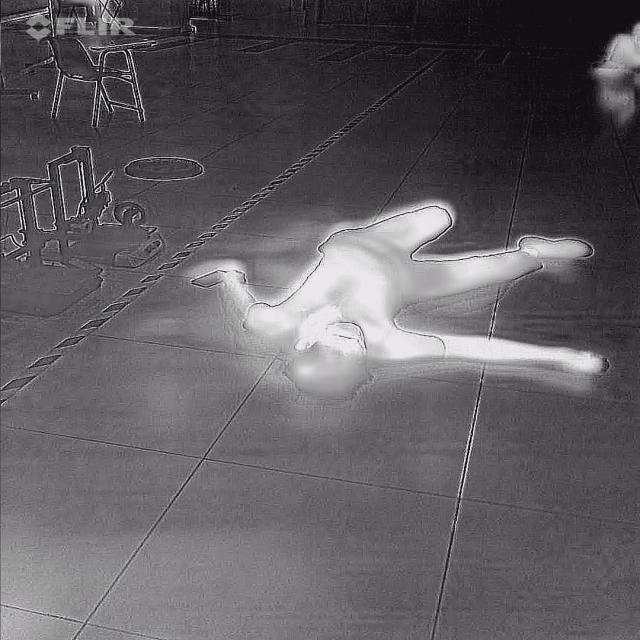Victim: (210, 196, 608, 403)
